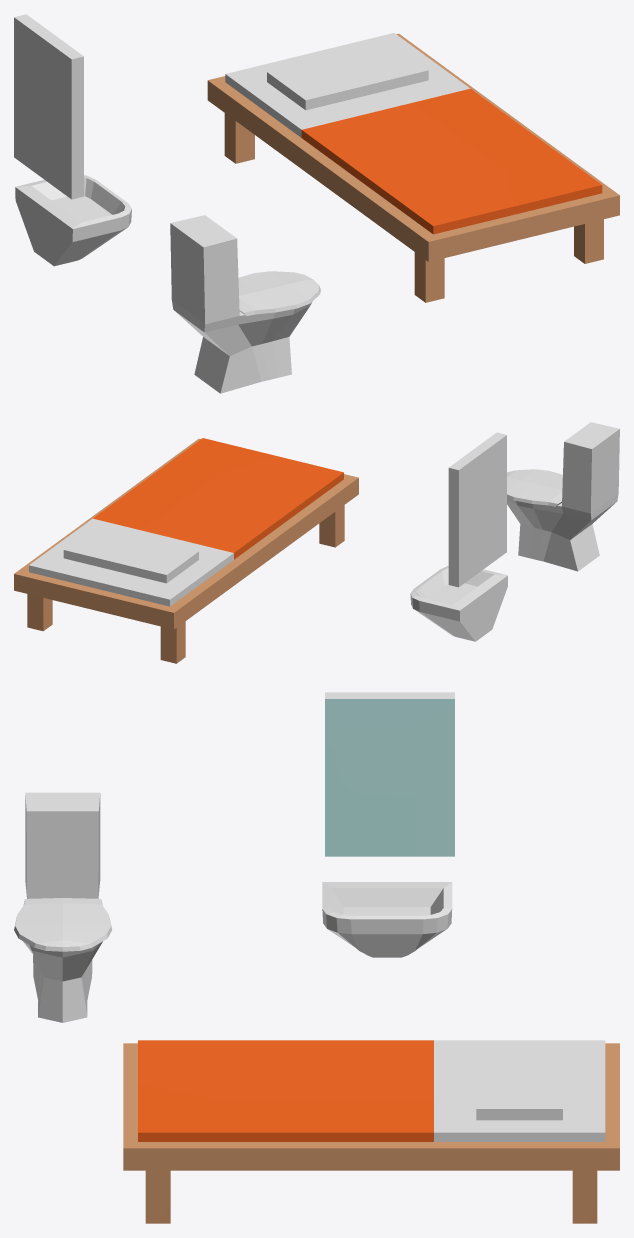
File: setgiuong.fbx
3 renders of one model, top to bottom at view 1: azimuth 30°, elevation 25°; view 2: azimuth 150°, elevation 25°; view 3: azimuth 270°, elevation 25°, orthographic. The views are drawn at different scales.
Parts seen in each view (by area): view 1: setgiuong; view 2: setgiuong; view 3: setgiuong.
Part boxes in pixels (<box>): setgiuong: <box>14,14,619,393</box>; setgiuong: <box>14,422,619,663</box>; setgiuong: <box>14,692,619,1223</box>.
Size of the model in its own units: 462 by 242 by 469.
1 material, 1 textured.
